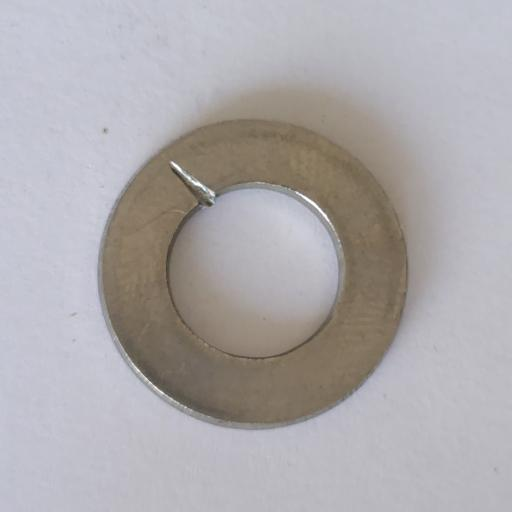scratch: (170, 160, 216, 209)
